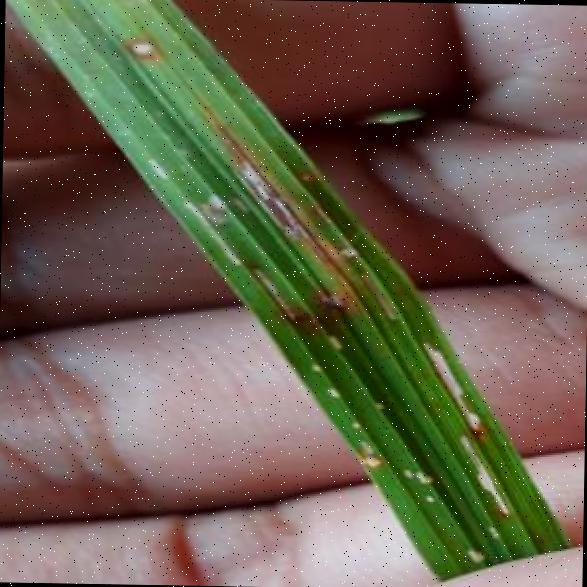Leaf_smut: (195, 99, 324, 238), (220, 234, 302, 330), (100, 22, 171, 70)
